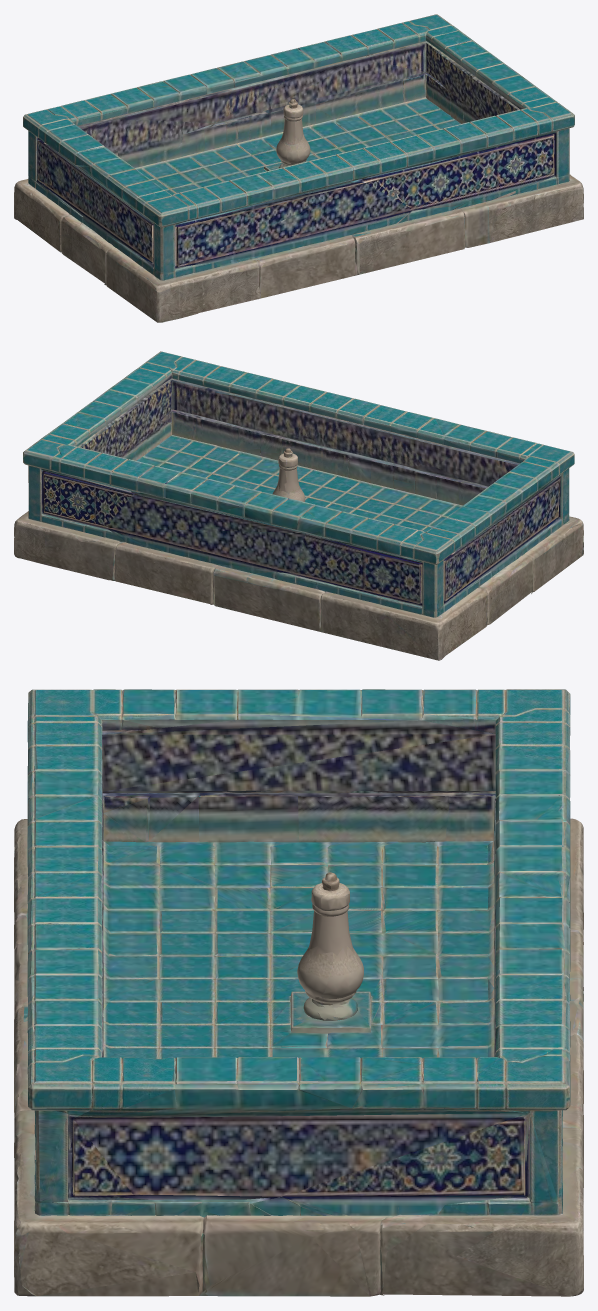
3 views of the same model, one above another, from view 1: azimuth 30°, elevation 25°; view 2: azimuth 150°, elevation 25°; view 3: azimuth 270°, elevation 25° (orthographic). The views are drawn at different scales.
Visible parts, largest first — view 1: Mesh_0; view 2: Mesh_0; view 3: Mesh_0.
Part boxes in pixels (box(x1,y1,x2,y2)): Mesh_0: box(14, 14, 583, 322); Mesh_0: box(14, 351, 583, 660); Mesh_0: box(14, 689, 583, 1296).
Bounding box in the file's own units: 1.9 × 0.4808 × 1.12.
Materials: 1 (1 with a texture image).
